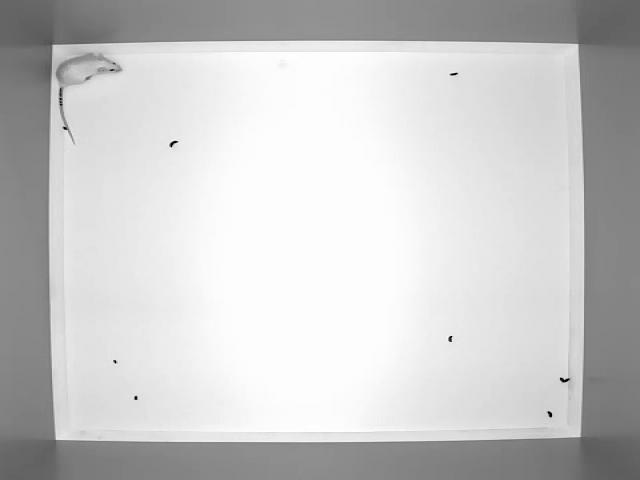Tikus: (48, 51, 134, 142)
